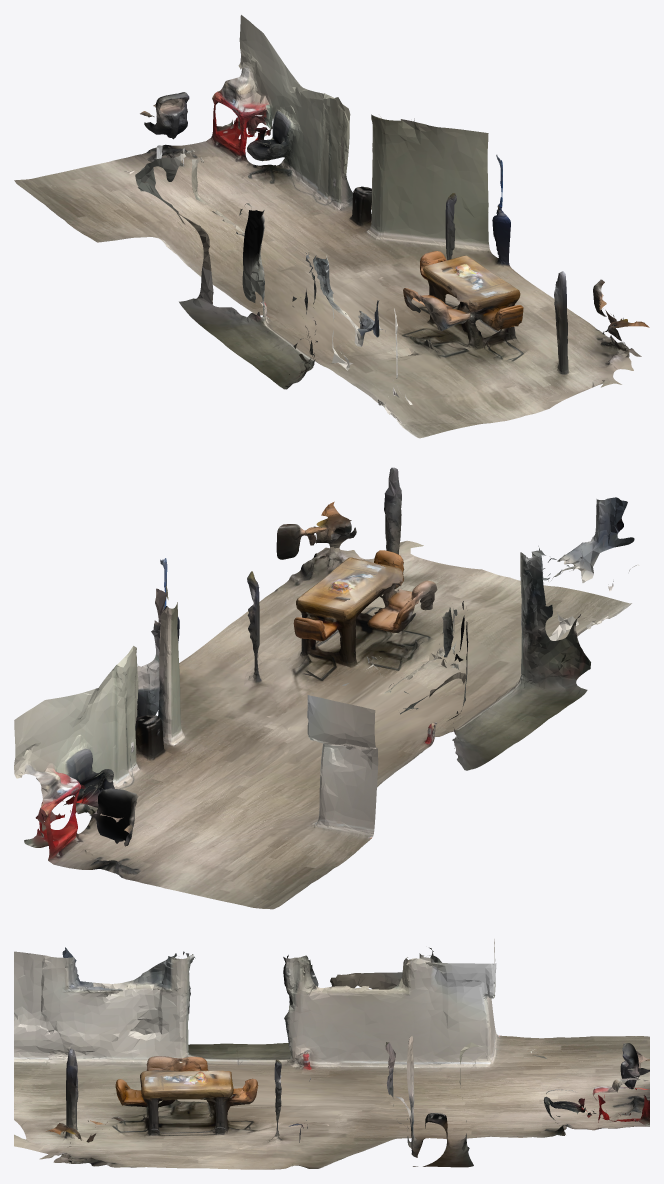
3 renders of one model, top to bottom at view 1: azimuth 30°, elevation 25°; view 2: azimuth 150°, elevation 25°; view 3: azimuth 270°, elevation 25°, orthographic. The views are drawn at different scales.
Size of the model in its own units: 5.11 by 2.09 by 10.88.
Materials: 2 (2 with a texture image).
